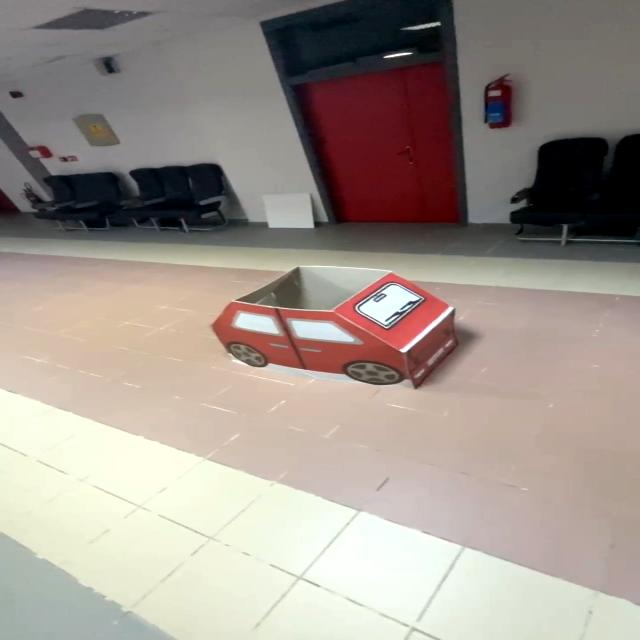red_car: (178, 254, 503, 397)
